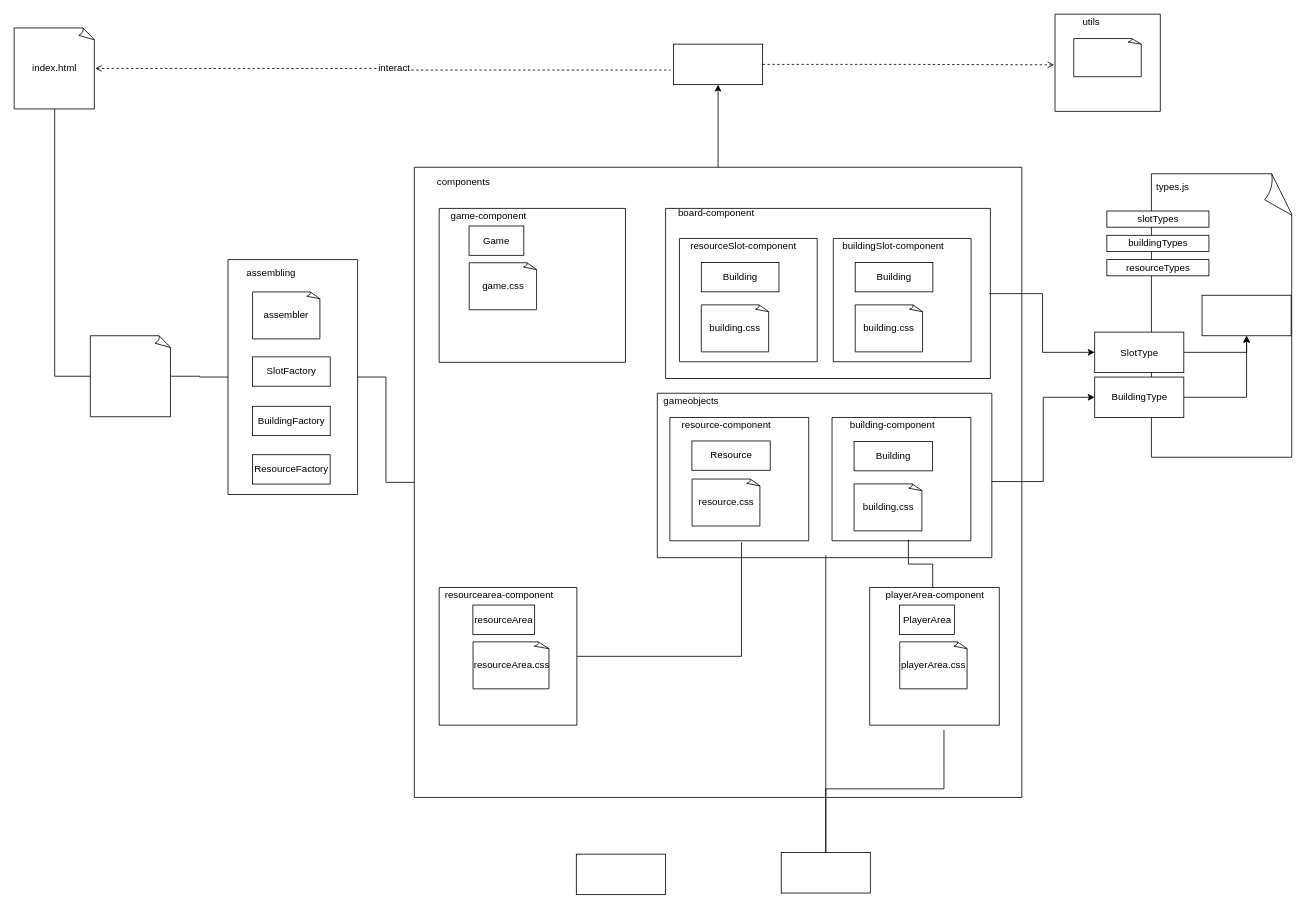
Some shapes in this 1307 by 909 pixel diagram are drawn without their labels. The shapes that lost their labels are listed below. From the top down, each one's box as (x1, y1, x2, y2) in pixels, then its label:
(673, 43, 763, 85): MyHtmlElement
(1073, 38, 1142, 77): domUtils.js
(1201, 294, 1291, 336): TypeObject
(90, 335, 171, 417): index.js
(576, 853, 665, 895): RuleEngine
(780, 852, 870, 893): Player
